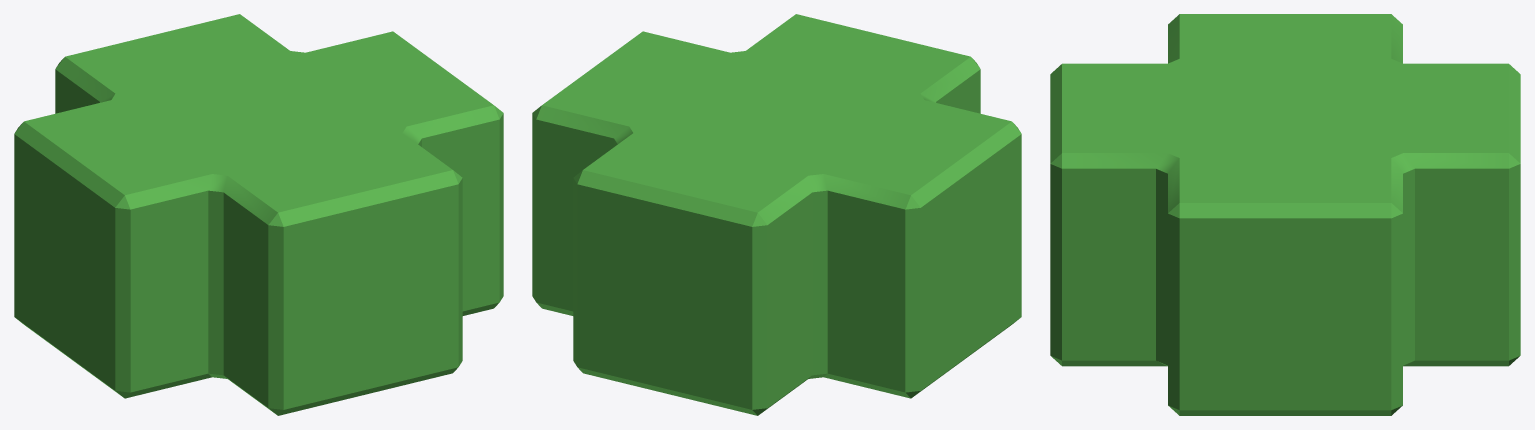
File: Hedge-4x4x2-Cross.FBX
The picture shows the model from 3 angles, left to right: view 1: azimuth 30°, elevation 25°; view 2: azimuth 150°, elevation 25°; view 3: azimuth 270°, elevation 25°; orthographic projection. The views are drawn at different scales.
Visible parts, largest first — view 1: Hedge-4x4x2-Cross; view 2: Hedge-4x4x2-Cross; view 3: Hedge-4x4x2-Cross.
Part boxes in pixels (x1,y1,x2,y2): Hedge-4x4x2-Cross: (14, 14, 503, 415); Hedge-4x4x2-Cross: (532, 14, 1021, 415); Hedge-4x4x2-Cross: (1050, 14, 1520, 415).
Size of the model in its own units: 40 by 40 by 20.
